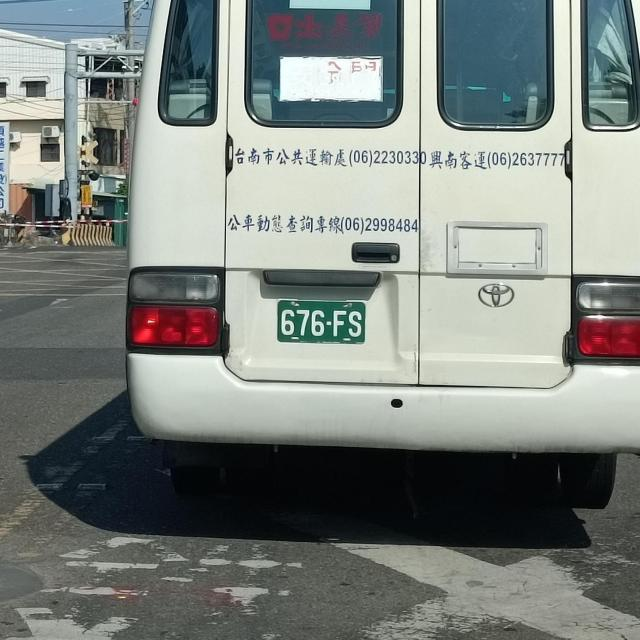GW: (275, 298, 369, 348)
